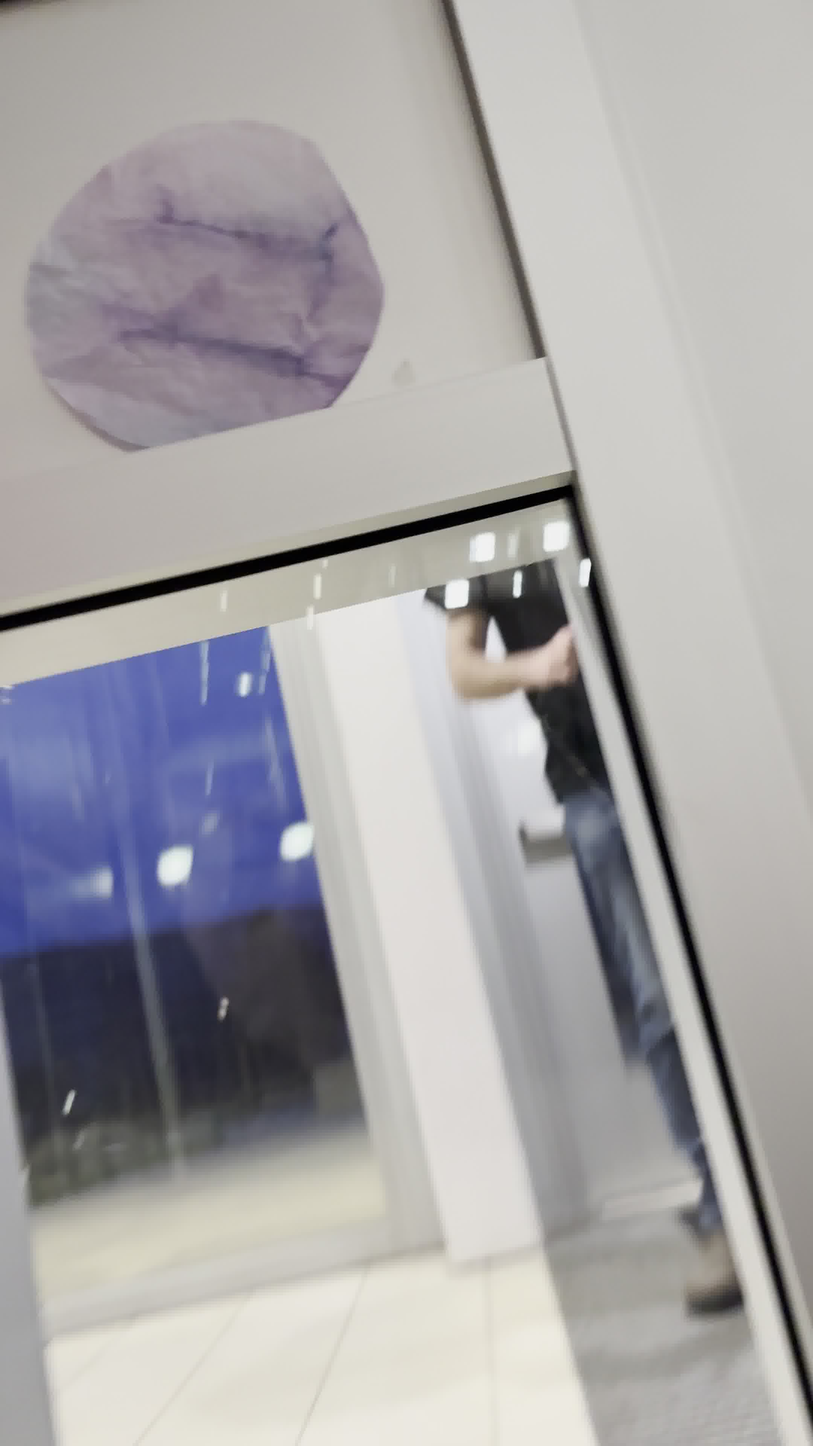Target: (11, 110, 392, 460)
